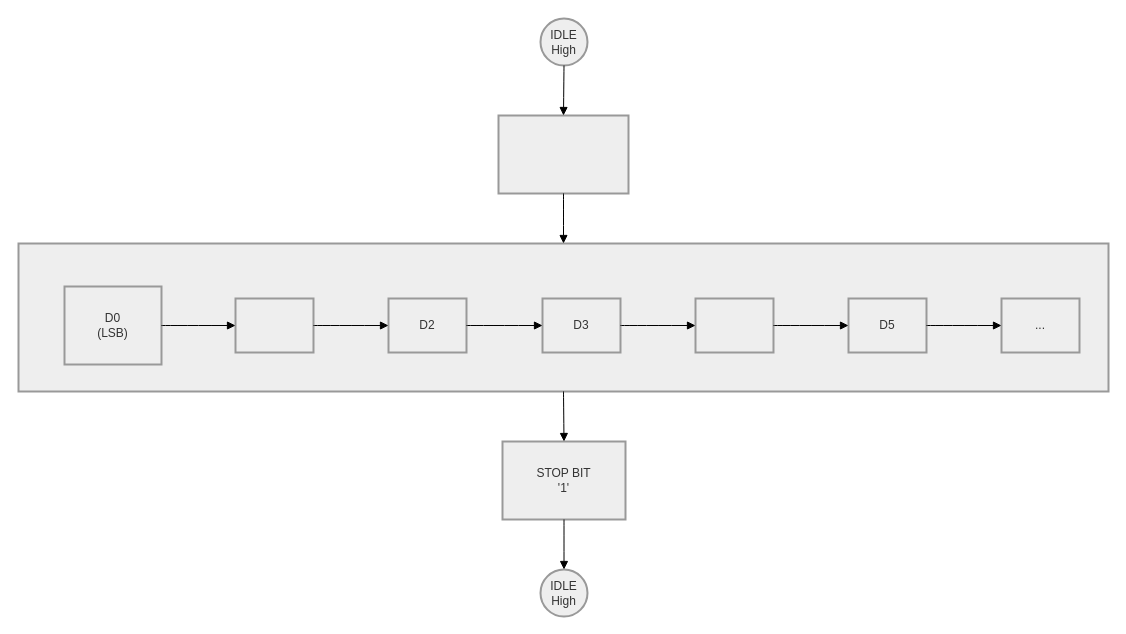
Some shapes in this 1126 by 634 pixel diagram are drawn without their labels. The shapes that lost their labels are listed below. From the top down, each one's box as (x1, y1, x2, y2) in pixels, then its label:
(497, 114, 629, 194): START BIT '0'
(234, 297, 314, 353): D1
(17, 242, 1109, 392): Bits de Dados
(694, 297, 774, 353): D4
